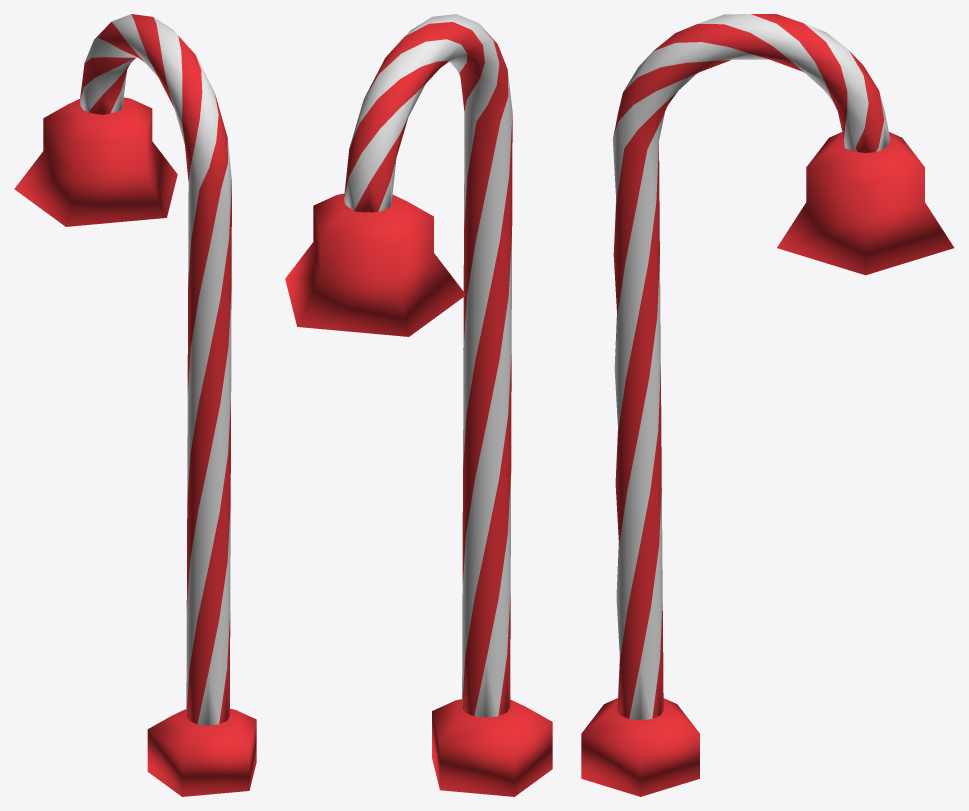
File: Candycane lantern.fbx
The picture shows the model from 3 angles, left to right: view 1: azimuth 30°, elevation 25°; view 2: azimuth 150°, elevation 25°; view 3: azimuth 270°, elevation 25°; orthographic projection. The views are drawn at different scales.
Parts seen in each view (by area): view 1: Cylinder.010; view 2: Cylinder.010; view 3: Cylinder.010.
Part boxes in pixels (left/top/right/bottom): Cylinder.010: left=14, top=14, right=256, bottom=796; Cylinder.010: left=285, top=14, right=552, bottom=796; Cylinder.010: left=581, top=14, right=954, bottom=796.
Bounding box in the file's own units: 145 × 716 × 320.
